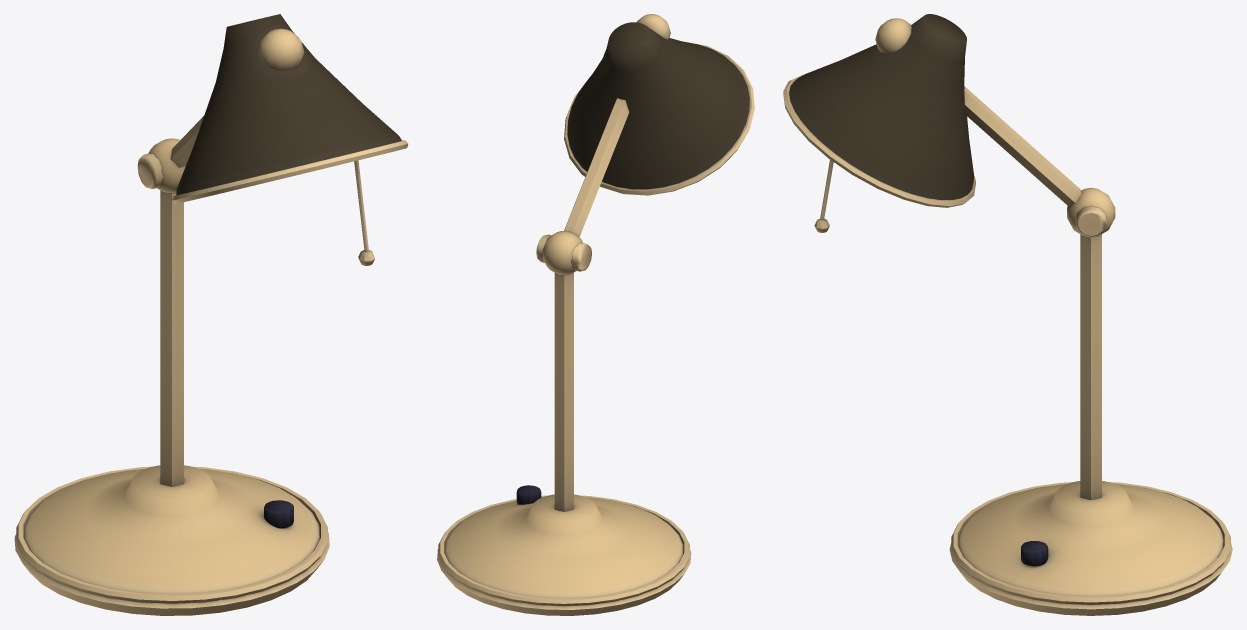
File: DormDeskLamp.fbx
The picture shows the model from 3 angles, left to right: view 1: azimuth 30°, elevation 25°; view 2: azimuth 150°, elevation 25°; view 3: azimuth 270°, elevation 25°; orthographic projection. The views are drawn at different scales.
Visible parts, largest first — view 1: DormDeskLamp_Main; view 2: DormDeskLamp_Main; view 3: DormDeskLamp_Main.
Part boxes in pixels (box(x1,y1,x2,y2)): DormDeskLamp_Main: box(14, 14, 408, 615); DormDeskLamp_Main: box(437, 14, 754, 615); DormDeskLamp_Main: box(783, 14, 1232, 615).
Bounding box in the file's own units: 80 × 169 × 127.
